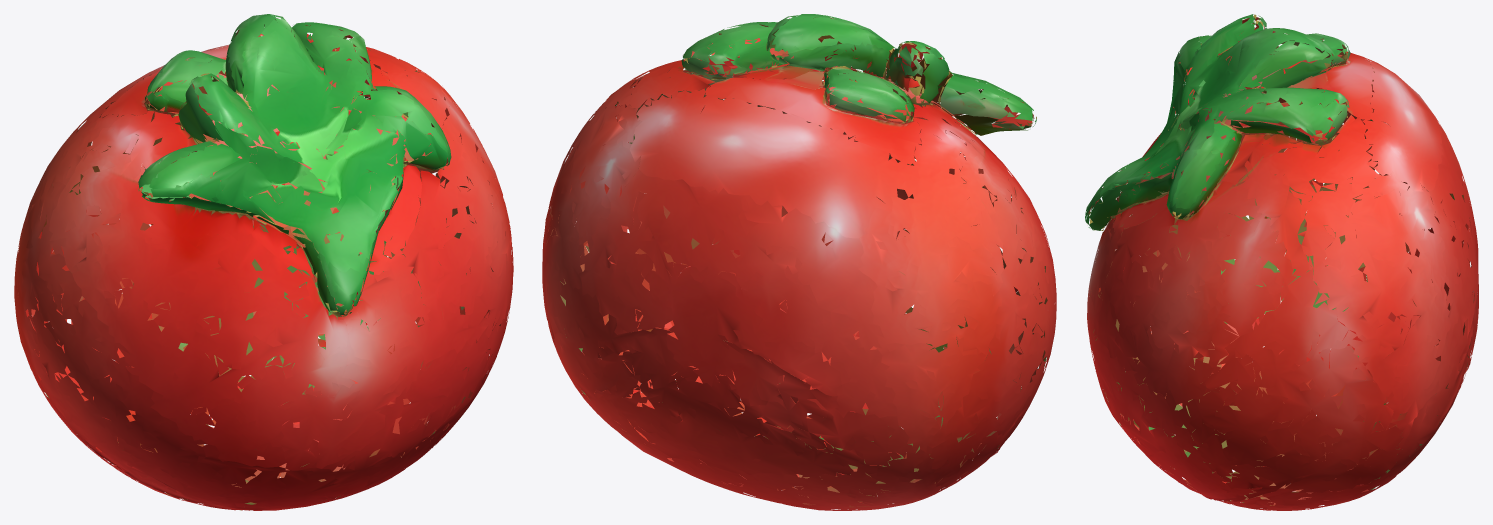
Rendered from tomato.glb.
The picture shows the model from 3 angles, left to right: view 1: azimuth 30°, elevation 25°; view 2: azimuth 150°, elevation 25°; view 3: azimuth 270°, elevation 25°; orthographic projection. The views are drawn at different scales.
Bounding box in the file's own units: 0.08 × 0.079 × 0.0635.
1 material, 1 textured.
